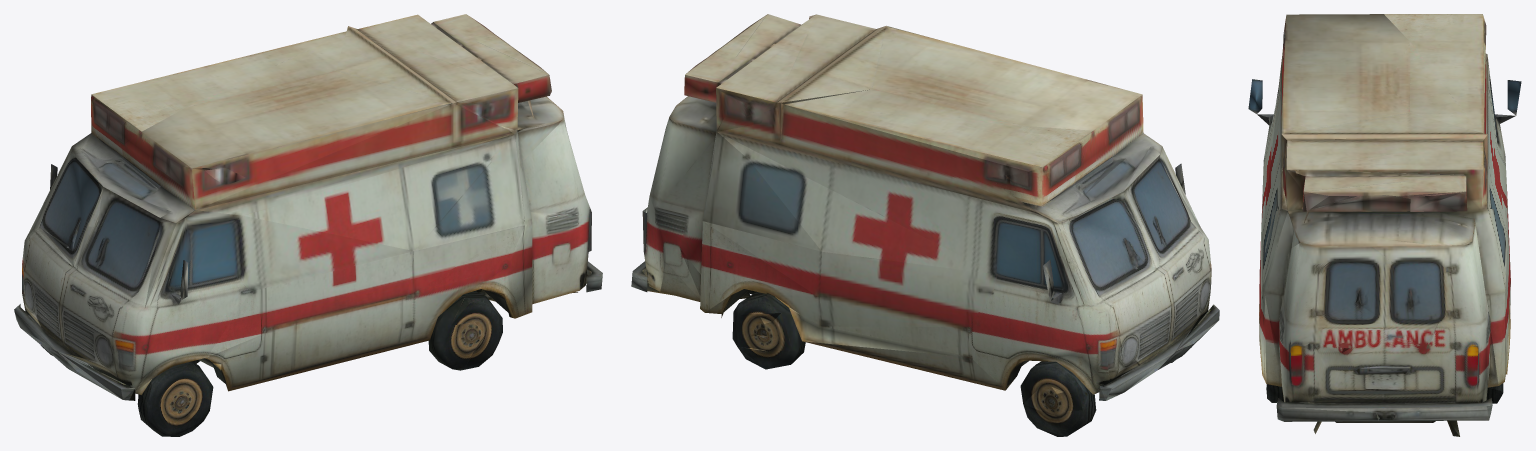
The model's file is car_ambulance_light.glb.
The picture shows the model from 3 angles, left to right: view 1: azimuth 30°, elevation 25°; view 2: azimuth 150°, elevation 25°; view 3: azimuth 270°, elevation 25°; orthographic projection. The views are drawn at different scales.
Parts seen in each view (by area): view 1: output_unwrapped; view 2: output_unwrapped; view 3: output_unwrapped.
Part boxes in pixels (left/top/right/bottom): output_unwrapped: left=14, top=14, right=602, bottom=436; output_unwrapped: left=631, top=14, right=1219, bottom=436; output_unwrapped: left=1248, top=14, right=1521, bottom=436.
Size of the model in its own units: 5.19 by 2.6 by 2.47.
1 material, 1 textured.
